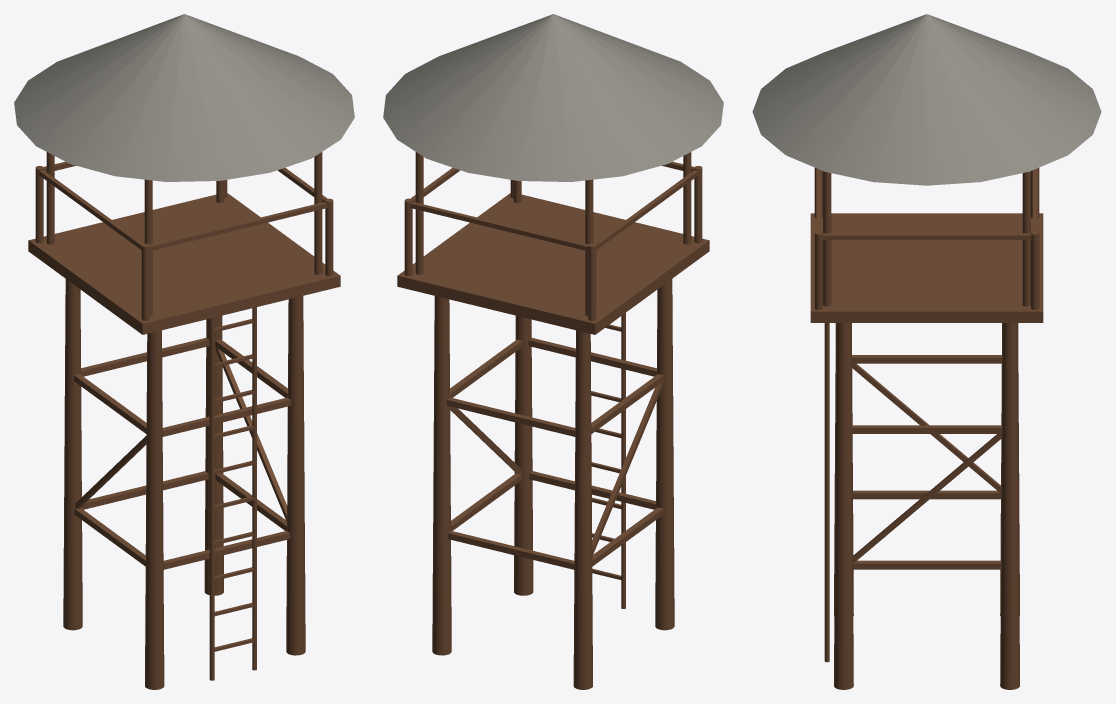
The model's file is watchtower-lod0.glb.
3 views of the same model, side by side, from view 1: azimuth 30°, elevation 25°; view 2: azimuth 150°, elevation 25°; view 3: azimuth 270°, elevation 25° (orthographic).
Visible parts, largest first — view 1: roof, platform, leg (×4), brace-front (×4), ladder-rail (×2), brace-side (×4), roof-post (×3), rail-post (×3), cross-brace (×2), rail-front, rail-side; view 2: roof, platform, leg (×4), brace-front (×4), brace-side (×4), roof-post (×3), rail-post (×3), cross-brace (×2), rail-front, ladder-rail, rail-side; view 3: roof, platform, leg (×4), brace-side (×4), cross-brace (×2), roof-post (×2), ladder-rail, rail-side, rail-post (×2).
Part boxes in pixels (bbox=[...]): roof: bbox=[14, 14, 354, 181]; platform: bbox=[28, 193, 340, 334]; leg (×4): bbox=[63, 279, 305, 689]; brace-front (×4): bbox=[81, 338, 291, 569]; ladder-rail (×2): bbox=[209, 307, 256, 680]; brace-side (×4): bbox=[74, 339, 287, 566]; roof-post (×3): bbox=[46, 152, 322, 315]; rail-post (×3): bbox=[35, 166, 333, 320]; cross-brace (×2): bbox=[75, 347, 286, 521]; rail-front: bbox=[149, 202, 327, 251]; rail-side: bbox=[39, 170, 143, 249]; roof: bbox=[383, 14, 723, 181]; platform: bbox=[397, 193, 709, 334]; leg (×4): bbox=[432, 279, 674, 689]; brace-front (×4): bbox=[446, 338, 656, 569]; brace-side (×4): bbox=[450, 339, 663, 566]; roof-post (×3): bbox=[415, 152, 691, 315]; rail-post (×3): bbox=[404, 166, 702, 320]; cross-brace (×2): bbox=[450, 382, 663, 555]; rail-front: bbox=[410, 202, 588, 251]; ladder-rail: bbox=[621, 313, 625, 608]; rail-side: bbox=[594, 170, 698, 249]; roof: bbox=[752, 14, 1101, 185]; platform: bbox=[810, 213, 1043, 322]; leg (×4): bbox=[834, 323, 1019, 689]; brace-side (×4): bbox=[851, 355, 1002, 569]; cross-brace (×2): bbox=[851, 363, 1002, 563]; roof-post (×2): bbox=[823, 171, 1030, 306]; ladder-rail: bbox=[824, 323, 829, 662]; rail-side: bbox=[822, 233, 1031, 239]; rail-post (×2): bbox=[814, 231, 1039, 309].
Bounding box in the file's own units: 4.2 × 8.45 × 4.2.
